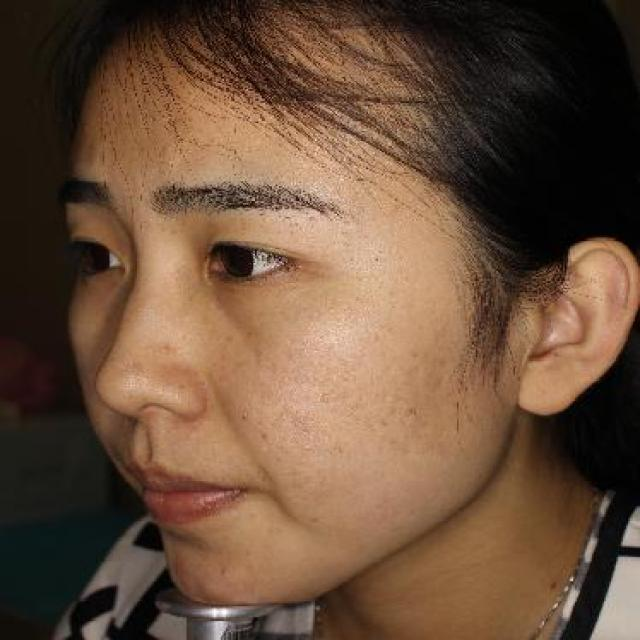Acne: (394, 397, 429, 425), (154, 336, 183, 358)
Blackheads: (232, 405, 256, 429), (253, 428, 279, 446)
